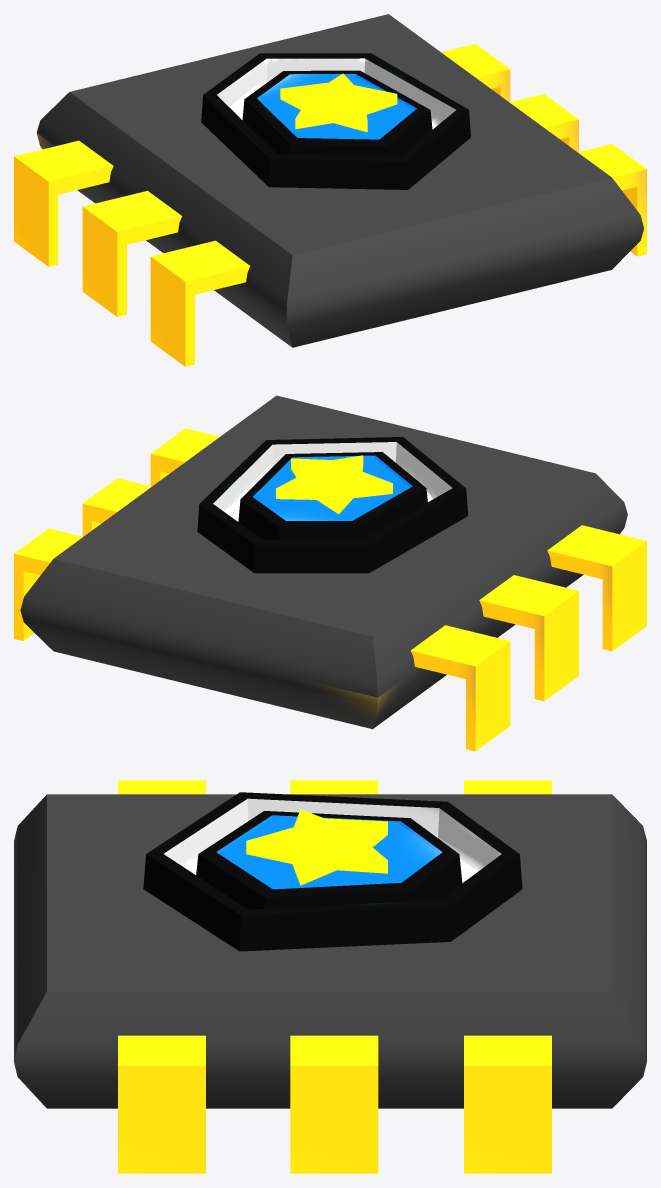
The model's file is ShieldPwrUp.fbx.
The picture shows the model from 3 angles, top to bottom: view 1: azimuth 30°, elevation 25°; view 2: azimuth 150°, elevation 25°; view 3: azimuth 270°, elevation 25°; orthographic projection. The views are drawn at different scales.
Visible parts, largest first — view 1: ShieldPwrUp; view 2: ShieldPwrUp; view 3: ShieldPwrUp.
Part boxes in pixels (box(x1,y1,x2,y2)): ShieldPwrUp: box(14, 14, 646, 366); ShieldPwrUp: box(14, 395, 646, 751); ShieldPwrUp: box(14, 780, 646, 1173).
Bounding box in the file's own units: 13.68 × 4.78 × 12.83.
